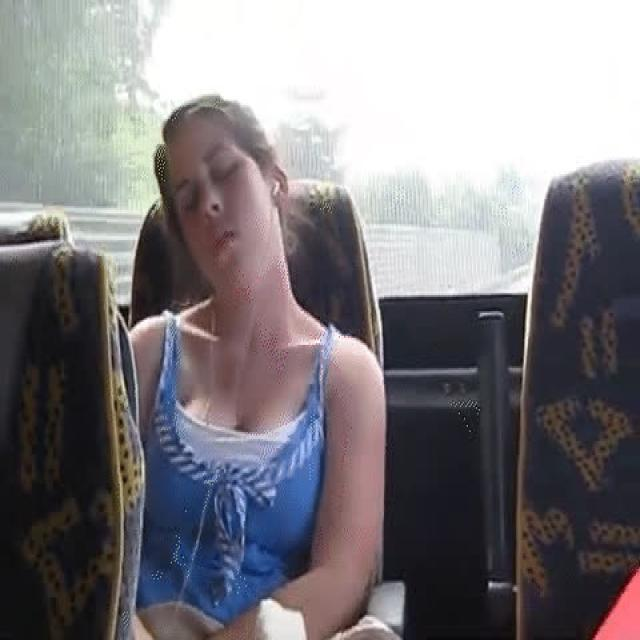no-seatbelt: (158, 94, 288, 304)
